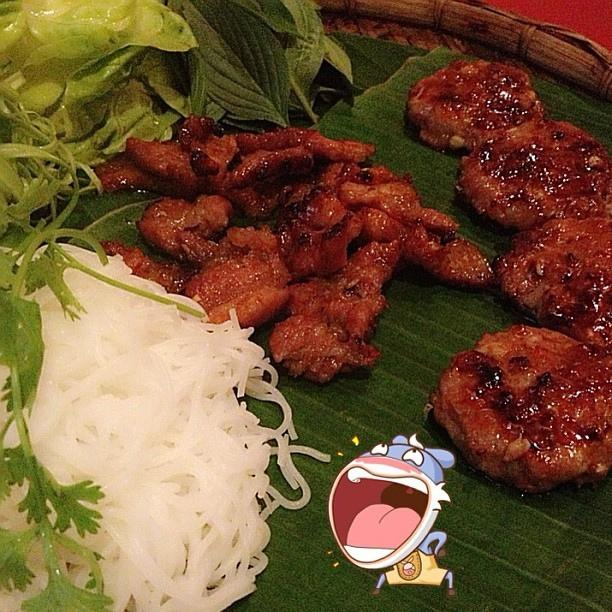lettuce: (3, 1, 198, 140), (182, 0, 291, 128), (269, 0, 325, 124), (130, 48, 194, 119), (24, 252, 88, 322), (226, 1, 308, 42), (114, 78, 154, 140), (6, 175, 61, 220), (324, 35, 354, 85), (205, 94, 226, 124)
